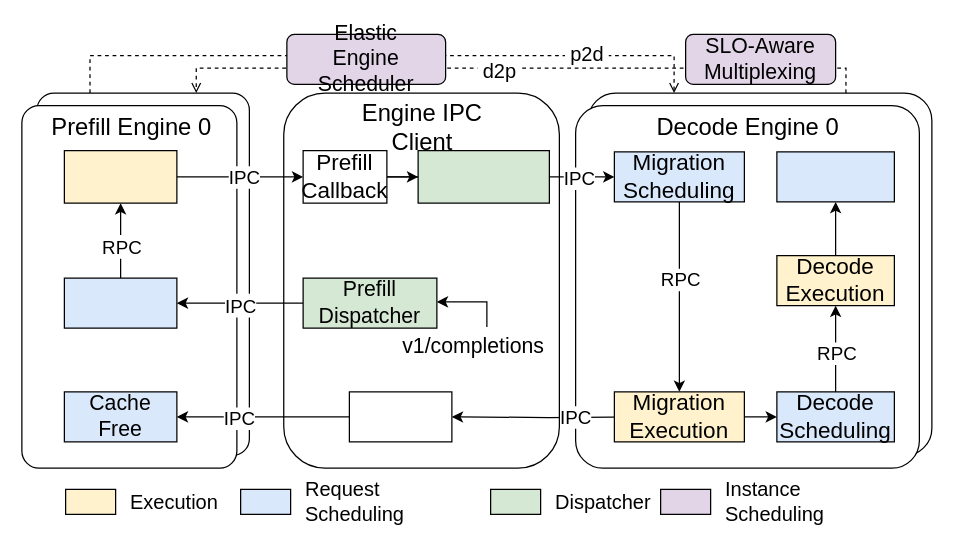
Image size: 954x545. Some labels were removed from this diagram. The centre of each missing label's shape, as x and y in pixels:
"Decode Dispatcher" belongs at (483,176).
"Migration Callback" belongs at (400,416).
"Output Scheduling" belongs at (835,176).
"Prefill Execution" belongs at (120,176).
"Prefill Scheduling" belongs at (120,302).
